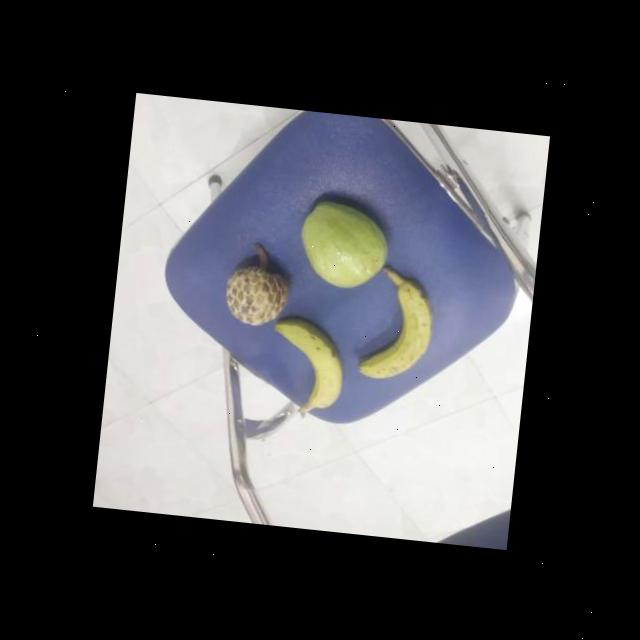Sakya fruit: (222, 246, 293, 328)
banana: (350, 274, 439, 385), (266, 318, 352, 415)
guava: (295, 194, 396, 289)
